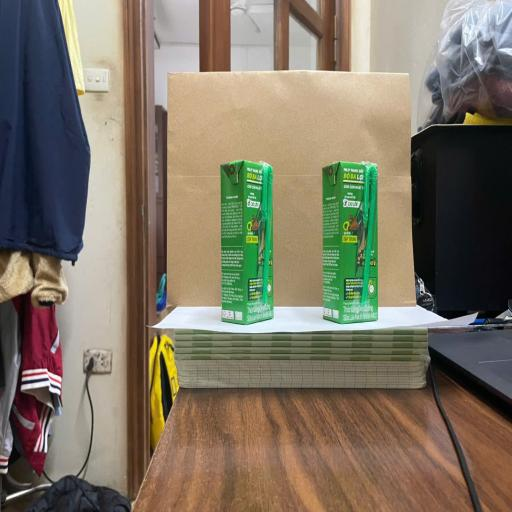milo: (322, 161, 378, 326), (220, 160, 273, 326)
